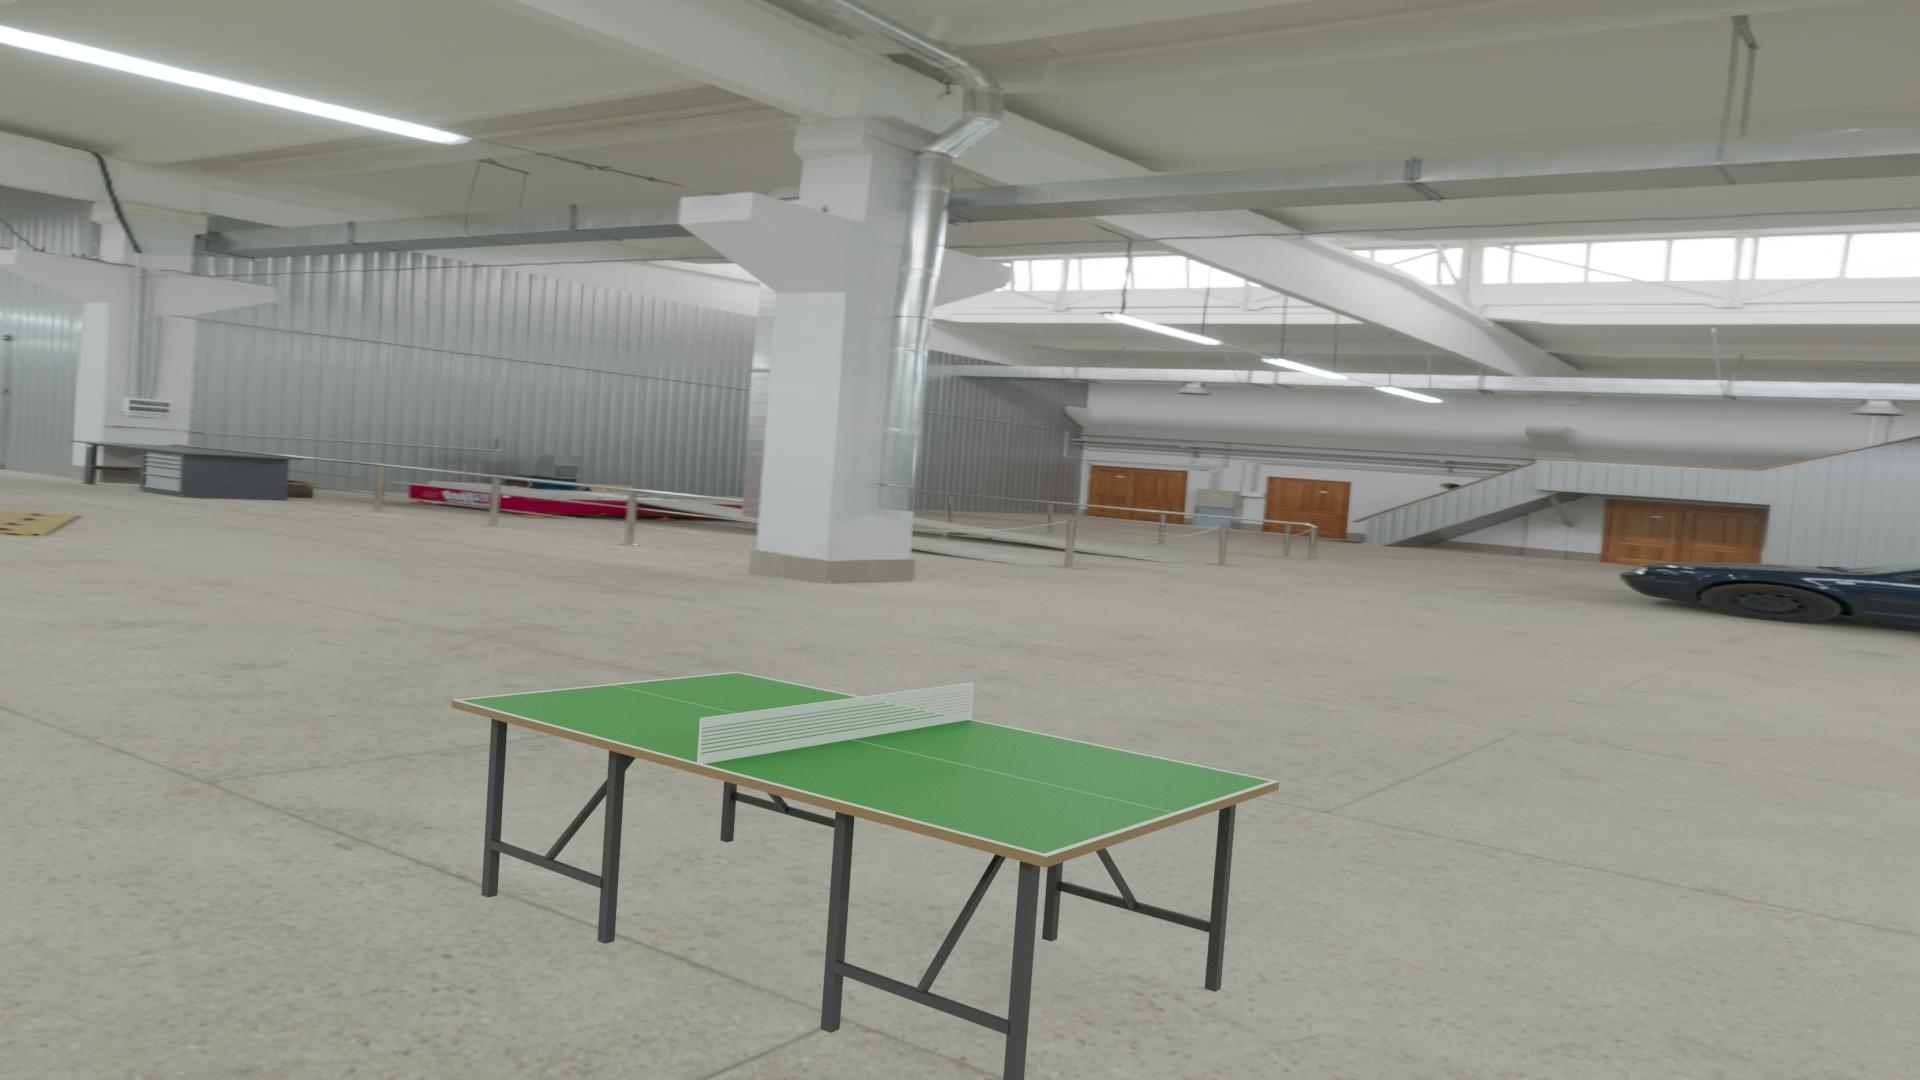table: (459, 673, 1271, 853)
